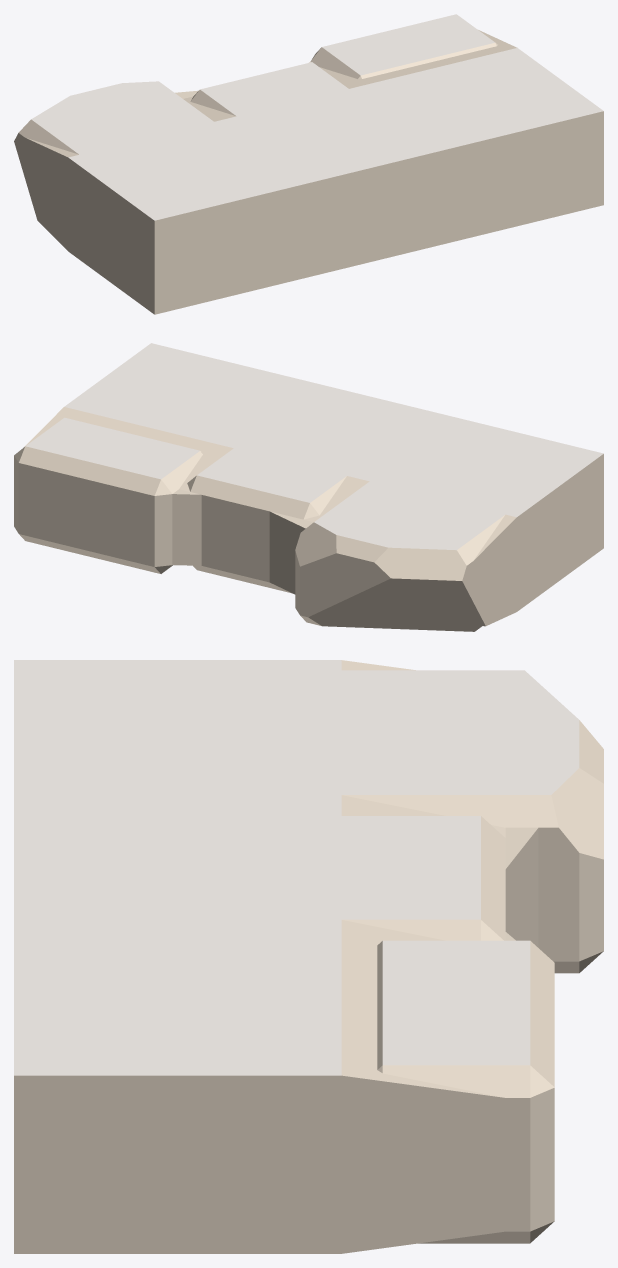
Rendered from Floor_Ruined_Straight_2.glb.
The picture shows the model from 3 angles, top to bottom: view 1: azimuth 30°, elevation 25°; view 2: azimuth 150°, elevation 25°; view 3: azimuth 270°, elevation 25°; orthographic projection. The views are drawn at different scales.
Visible parts, largest first — view 1: Floor_Ruined_Straight_2; view 2: Floor_Ruined_Straight_2; view 3: Floor_Ruined_Straight_2.
Part boxes in pixels (x1,y1,x2,y2): Floor_Ruined_Straight_2: (14,14,603,314); Floor_Ruined_Straight_2: (14,343,603,631); Floor_Ruined_Straight_2: (14,660,603,1253).
Size of the model in its own units: 0.45 by 0.09 by 0.27.
